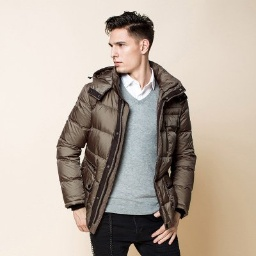face: (104, 11, 156, 74)
